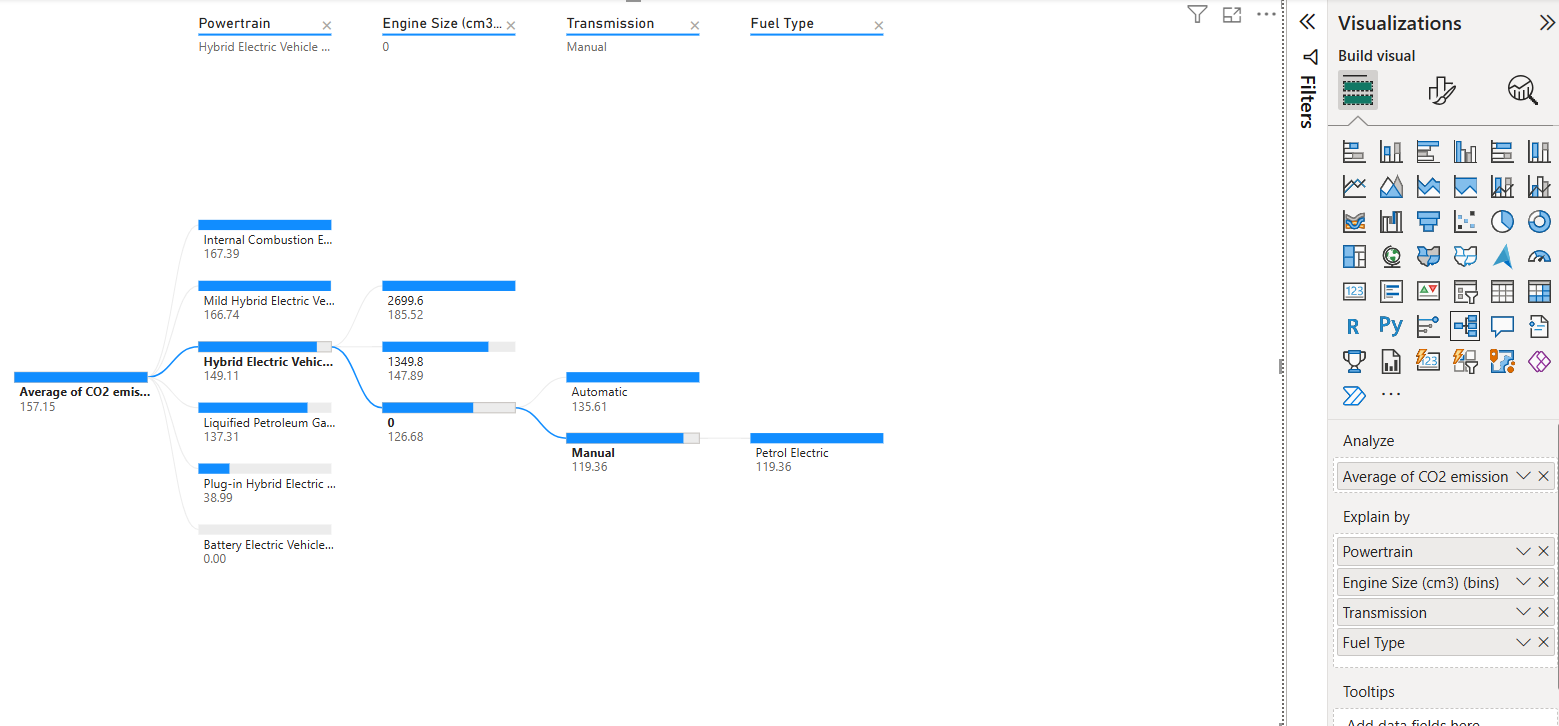

What the dashboard file says about the page in this screenshot:
{"tool":"powerbi","page":{"name":"Decomposition Tree","canvas":[1280,720],"ordinal":4},"visuals":[{"type":"decompositionTreeVisual","fields":{"Analyze":["Avg(Vehicles.CO2 emission)"],"ExplainBy":["Vehicles.Powertrain","Vehicles.Engine Size (cm3) (bins)","Vehicles.Transmission","Vehicles.Fuel Type"]},"box":[9.8,0,1270.5,720.2],"z":0}]}

Visuals, with their boxes on the page's 1280x720 design canvas (x1, y1, x2, y2). These are canvas units, not pixel positions in the 1559x726 screenshot, which may show the page scaled, cropped or inside an application window:
decompositionTreeVisual - Avg(Vehicles.CO2 emission) x Vehicles.Powertrain: 10 0 1280 720
